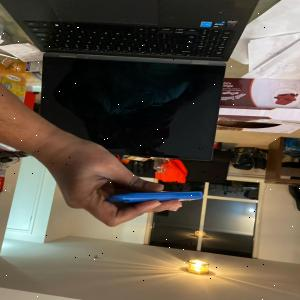Diamond-E-Ciggirate: (105, 186, 207, 210)
